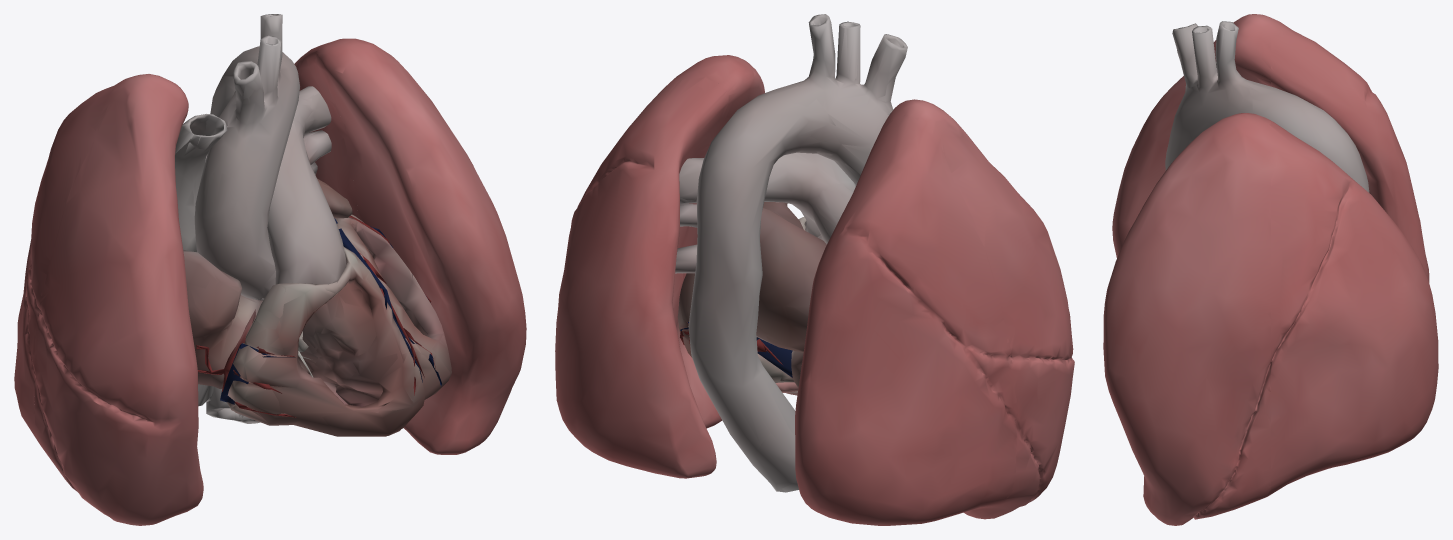
Rendered from anatomi_kardiorespirasi.glb.
The picture shows the model from 3 angles, left to right: view 1: azimuth 30°, elevation 25°; view 2: azimuth 150°, elevation 25°; view 3: azimuth 270°, elevation 25°; orthographic projection. The views are drawn at different scales.
Parts seen in each view (by area): view 1: Organ_Paru_Kanan_Depan, Organ_Jantung_Utuh, Organ_Paru_Kiri, Organ_Paru_Kanan, Organ_Paru_Kiri_Depan, Organ_Jantung_Depan, Organ_Aorta_Pembuluh, Organ_Aorta_Depan, Organ_Paru_Kanan_Dalam, Organ_Aorta_Dalam, Organ_Paru_Kiri_Dalam; view 2: Organ_Paru_Kanan, Organ_Paru_Kanan_Dalam, Organ_Paru_Kiri, Organ_Aorta_Pembuluh, Organ_Paru_Kiri_Dalam, Organ_Aorta_Dalam, Organ_Paru_Kanan_Depan, Organ_Jantung_Dalam, Organ_Aorta_Depan, Organ_Jantung_Utuh, Organ_Paru_Kiri_Depan; view 3: Organ_Paru_Kiri, Organ_Paru_Kiri_Dalam, Organ_Paru_Kiri_Depan, Organ_Paru_Kanan, Organ_Paru_Kanan_Dalam, Organ_Aorta_Pembuluh, Organ_Aorta_Depan, Organ_Paru_Kanan_Depan, Organ_Aorta_Dalam.
Boxes of the visible parts, left/top/right/bottom form: Organ_Paru_Kanan_Depan: left=34, top=74, right=203, bottom=525; Organ_Jantung_Utuh: left=183, top=130, right=451, bottom=436; Organ_Paru_Kiri: left=294, top=38, right=525, bottom=454; Organ_Paru_Kanan: left=14, top=74, right=197, bottom=525; Organ_Paru_Kiri_Depan: left=315, top=38, right=526, bottom=454; Organ_Jantung_Depan: left=183, top=184, right=451, bottom=436; Organ_Aorta_Pembuluh: left=175, top=14, right=347, bottom=423; Organ_Aorta_Depan: left=175, top=14, right=346, bottom=300; Organ_Paru_Kanan_Dalam: left=14, top=82, right=121, bottom=446; Organ_Aorta_Dalam: left=198, top=46, right=331, bottom=423; Organ_Paru_Kiri_Dalam: left=294, top=43, right=357, bottom=215; Organ_Paru_Kanan: left=795, top=99, right=1072, bottom=525; Organ_Paru_Kanan_Dalam: left=795, top=115, right=1016, bottom=525; Organ_Paru_Kiri: left=555, top=55, right=764, bottom=478; Organ_Aorta_Pembuluh: left=680, top=14, right=907, bottom=492; Organ_Paru_Kiri_Dalam: left=555, top=78, right=728, bottom=477; Organ_Aorta_Dalam: left=679, top=85, right=853, bottom=492; Organ_Paru_Kanan_Depan: left=877, top=99, right=1074, bottom=518; Organ_Jantung_Dalam: left=675, top=202, right=826, bottom=392; Organ_Aorta_Depan: left=788, top=14, right=907, bottom=240; Organ_Jantung_Utuh: left=675, top=202, right=826, bottom=393; Organ_Paru_Kiri_Depan: left=671, top=55, right=764, bottom=428; Organ_Paru_Kiri: left=1103, top=113, right=1438, bottom=525; Organ_Paru_Kiri_Dalam: left=1271, top=121, right=1438, bottom=494; Organ_Paru_Kiri_Depan: left=1103, top=113, right=1270, bottom=524; Organ_Paru_Kanan: left=1118, top=14, right=1429, bottom=282; Organ_Paru_Kanan_Dalam: left=1271, top=18, right=1425, bottom=272; Organ_Aorta_Pembuluh: left=1165, top=21, right=1369, bottom=192; Organ_Aorta_Depan: left=1165, top=21, right=1252, bottom=170; Organ_Paru_Kanan_Depan: left=1112, top=14, right=1270, bottom=257; Organ_Aorta_Dalam: left=1252, top=81, right=1368, bottom=191.
Bounding box in the file's own units: 2.13 × 2.08 × 1.47.
